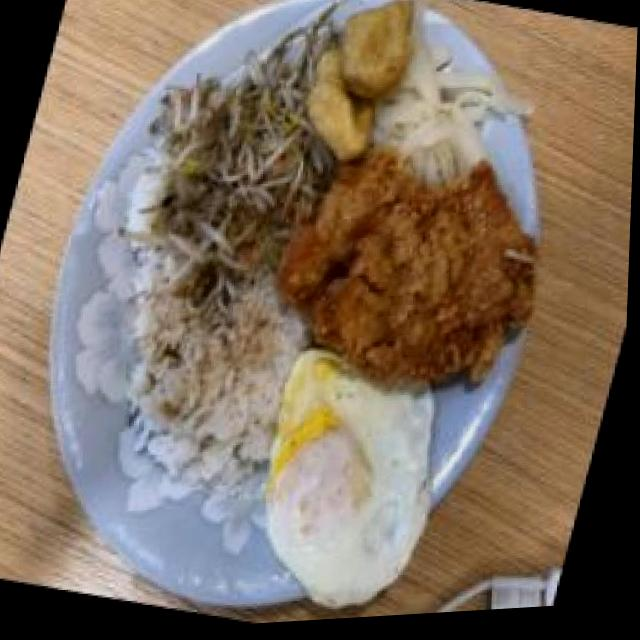chicken_nuggets: (290, 0, 423, 172)
fried_chicken: (254, 118, 571, 418)
fried_eggs: (236, 343, 469, 628)
mung_bean_sprouts: (138, 65, 313, 291)
rice: (115, 285, 304, 497)
